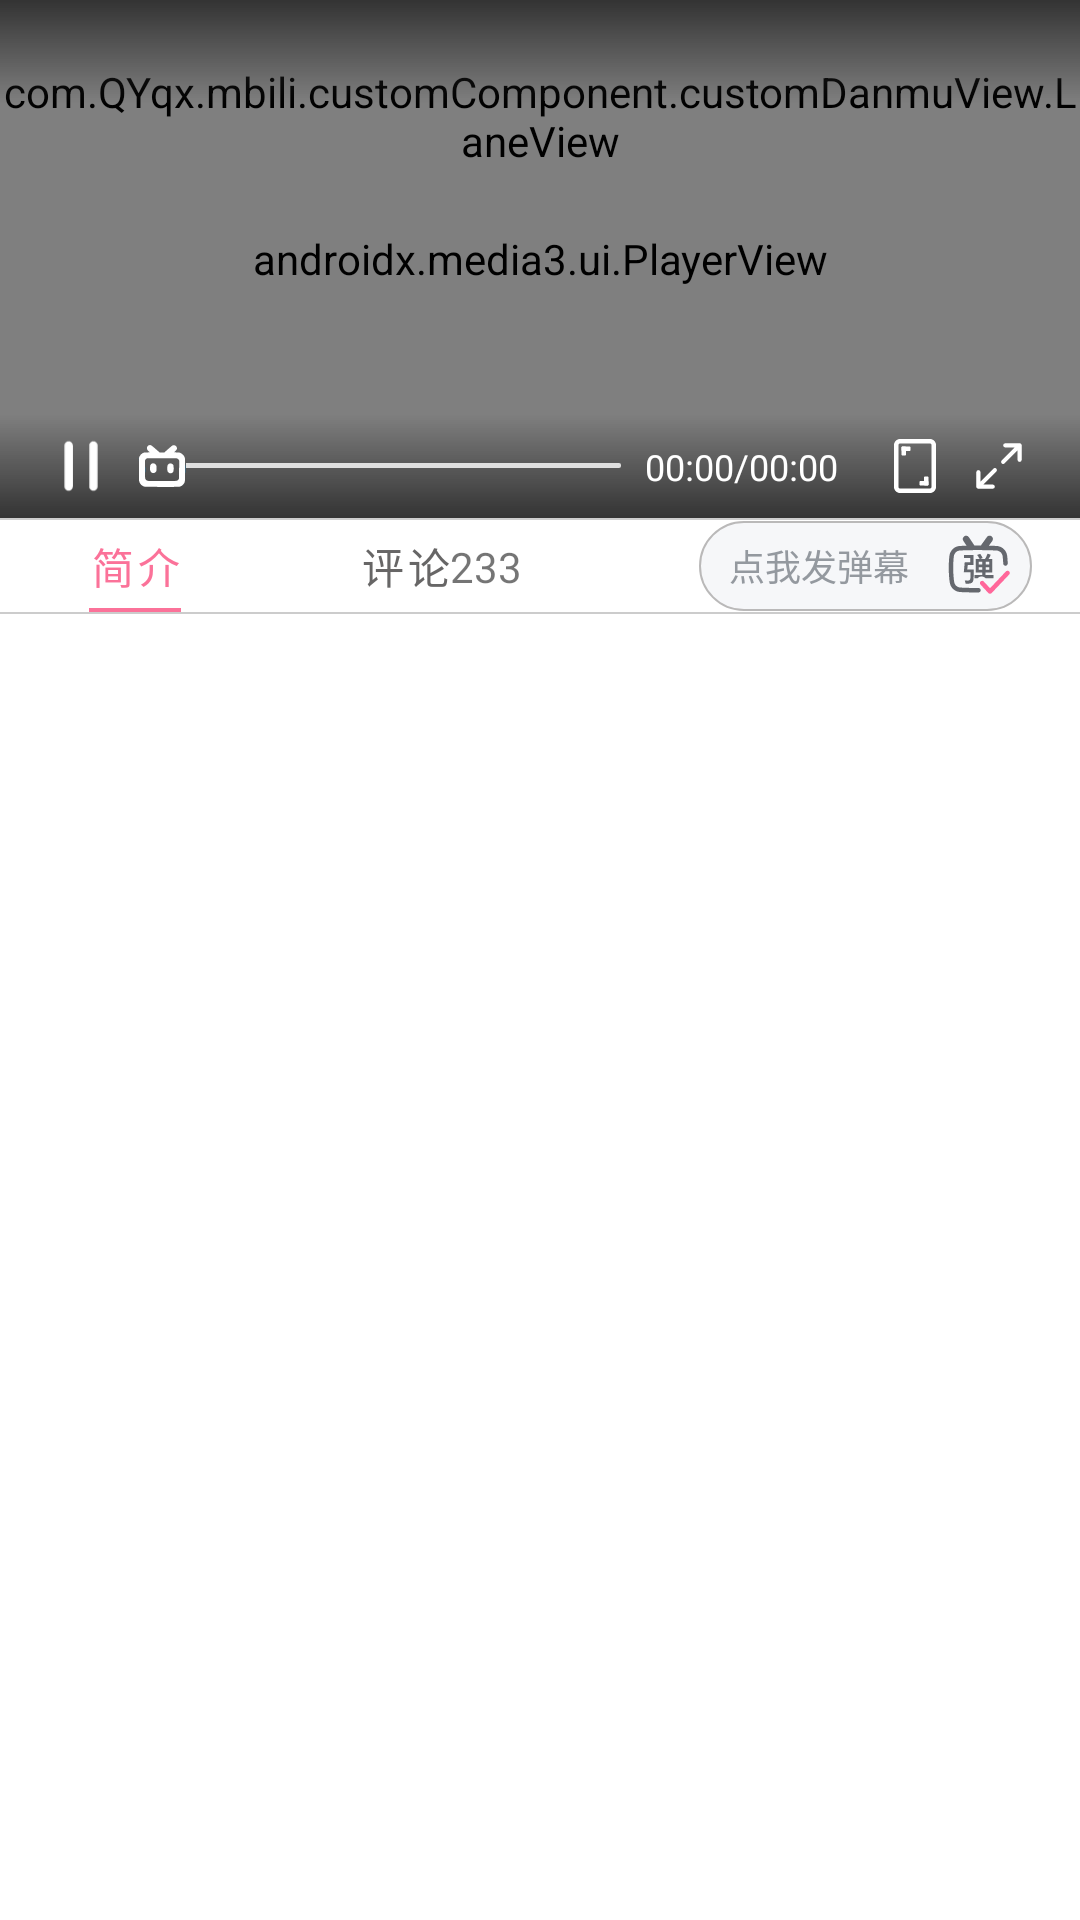

Where to tap for icons on this 1080x1920 app screen, as (x=x, y=y):
fangda: (x=999, y=466)
shuping: (x=915, y=466)
zanting: (x=81, y=466)
